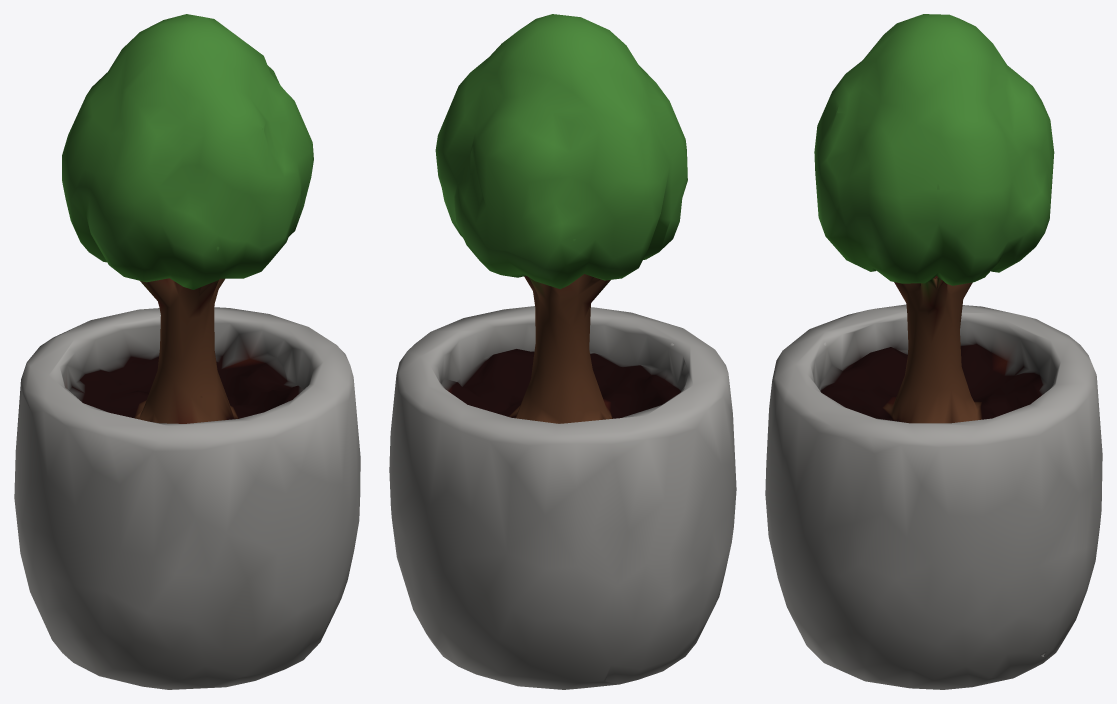
The model's file is gen3d-concrete-planter-with-tree-lod0.glb.
The picture shows the model from 3 angles, left to right: view 1: azimuth 30°, elevation 25°; view 2: azimuth 150°, elevation 25°; view 3: azimuth 270°, elevation 25°; orthographic projection.
Parts seen in each view (by area): view 1: part_0; view 2: part_0; view 3: part_0.
Boxes of the visible parts, x1,y1,x2,y2 form: part_0: (14,14,360,689); part_0: (389,14,736,689); part_0: (765,14,1102,689).
Bounding box in the file's own units: 0.5129 × 0.9989 × 0.4952.
